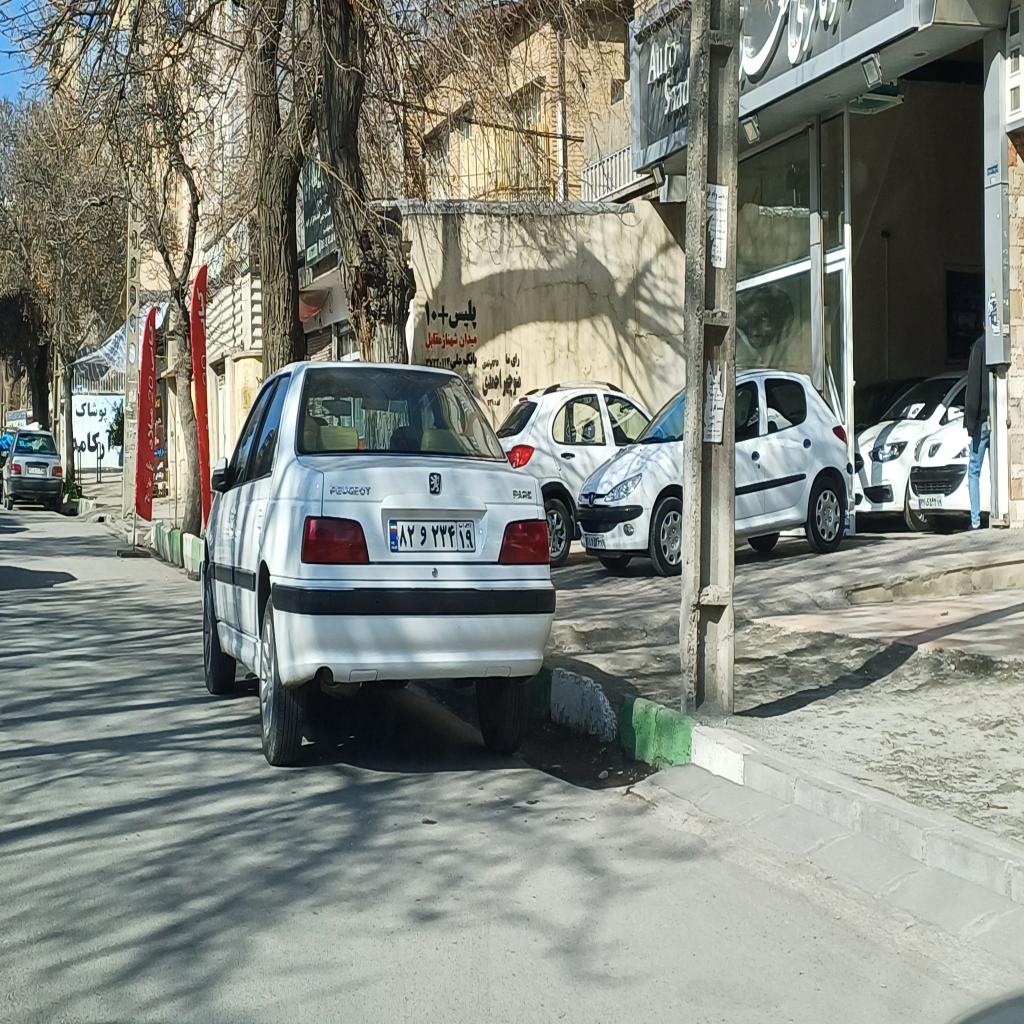Plates: (390, 519, 475, 552)
